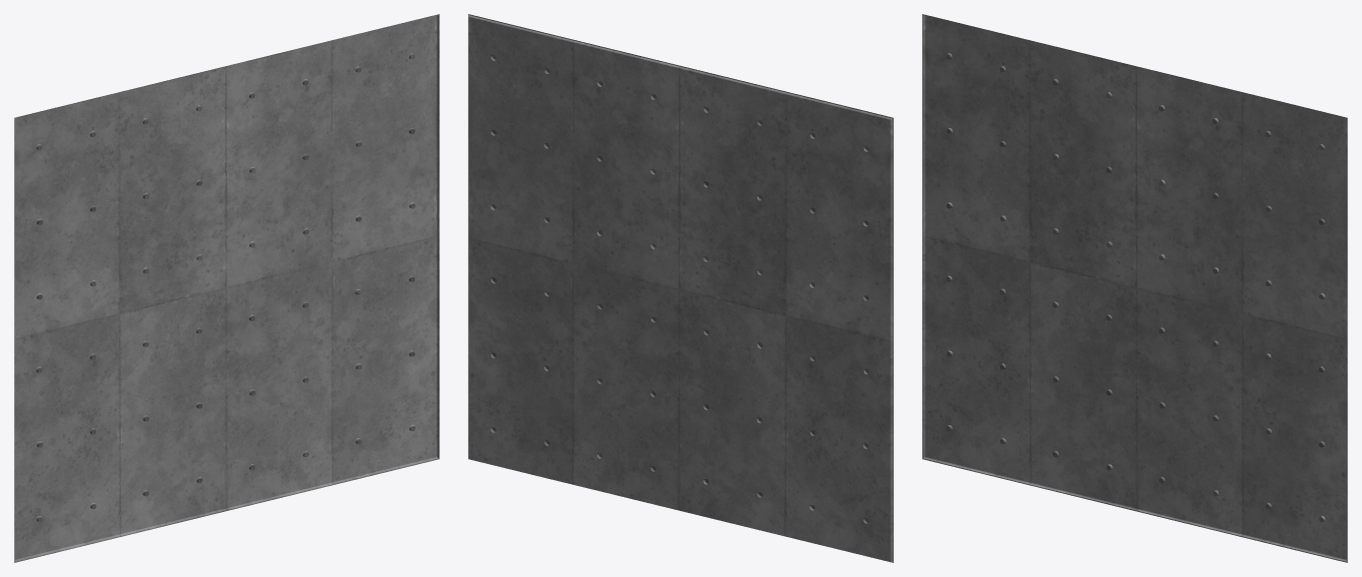
The model's file is SM_Wall_07.fbx.
3 renders of one model, left to right at view 1: azimuth 30°, elevation 25°; view 2: azimuth 150°, elevation 25°; view 3: azimuth 330°, elevation 25°, orthographic.
Visible parts, largest first — view 1: SM_Wall_07; view 2: SM_Wall_07; view 3: SM_Wall_07.
Boxes of the visible parts, x1,y1,x2,y2 form: SM_Wall_07: (14,14,439,562); SM_Wall_07: (468,14,893,562); SM_Wall_07: (922,14,1347,562).
Size of the model in its own units: 400 by 400 by 1.98.
